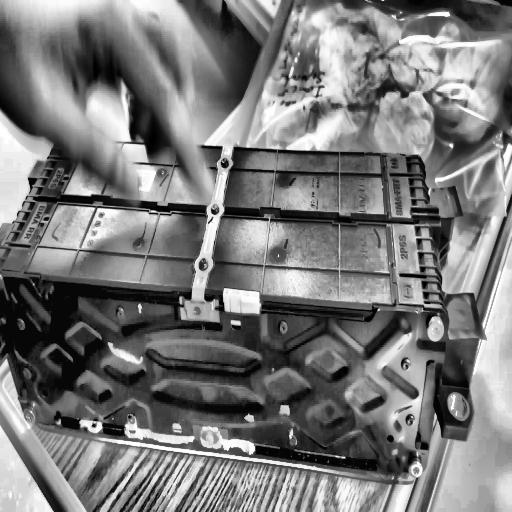battery_module: (0, 139, 450, 486)
